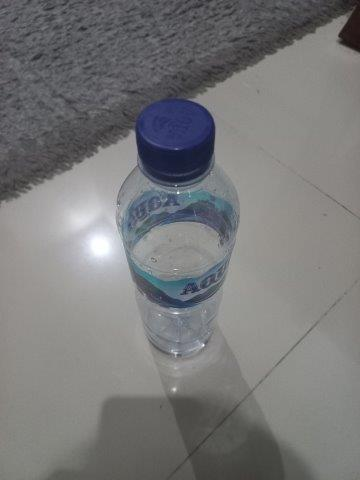botolplastik: (118, 99, 240, 355)
